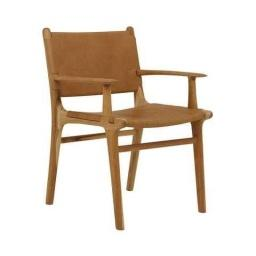Chair: (45, 26, 208, 229)
